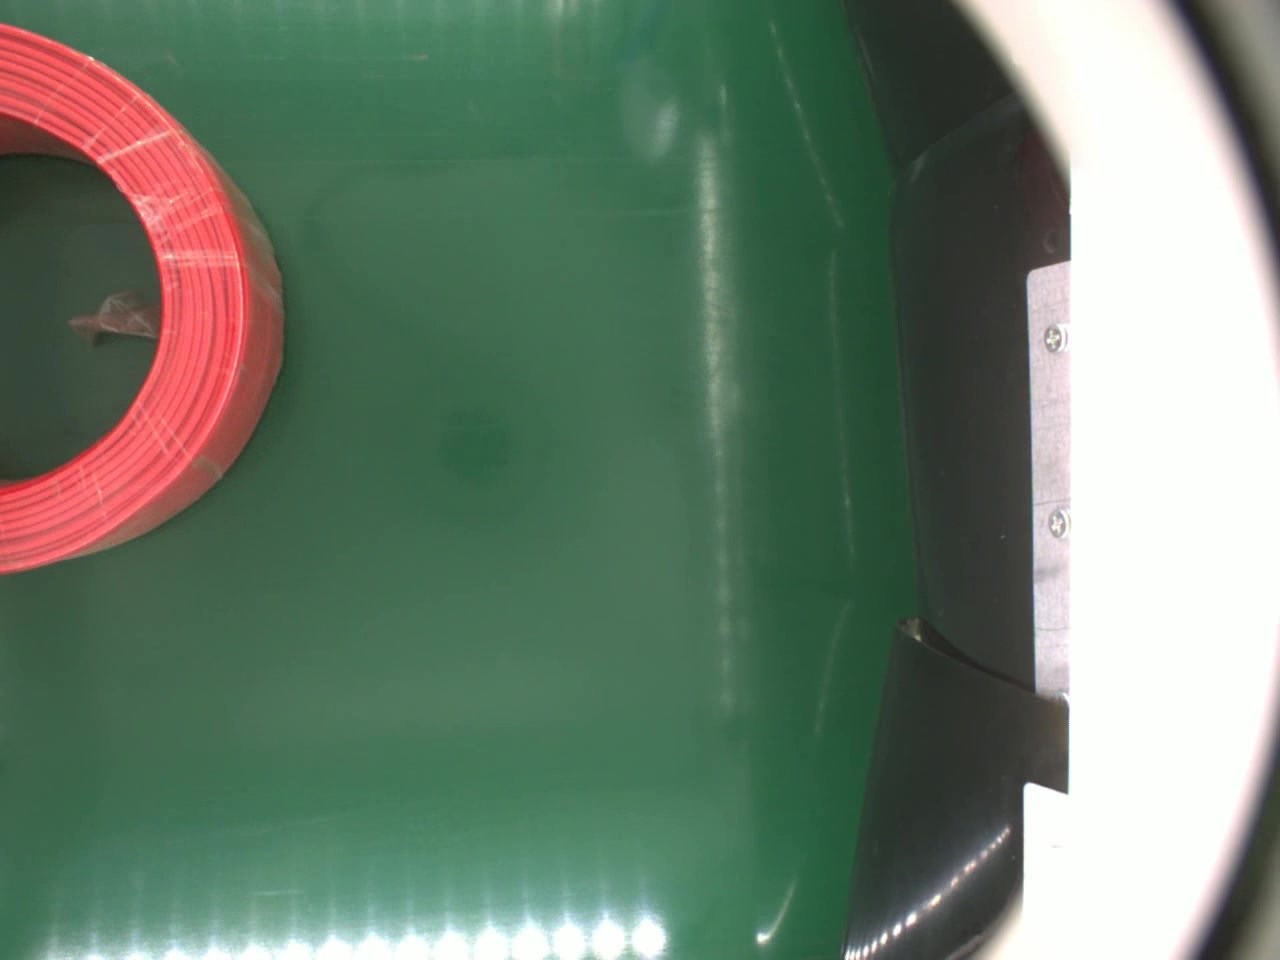red: (0, 22, 293, 574)
